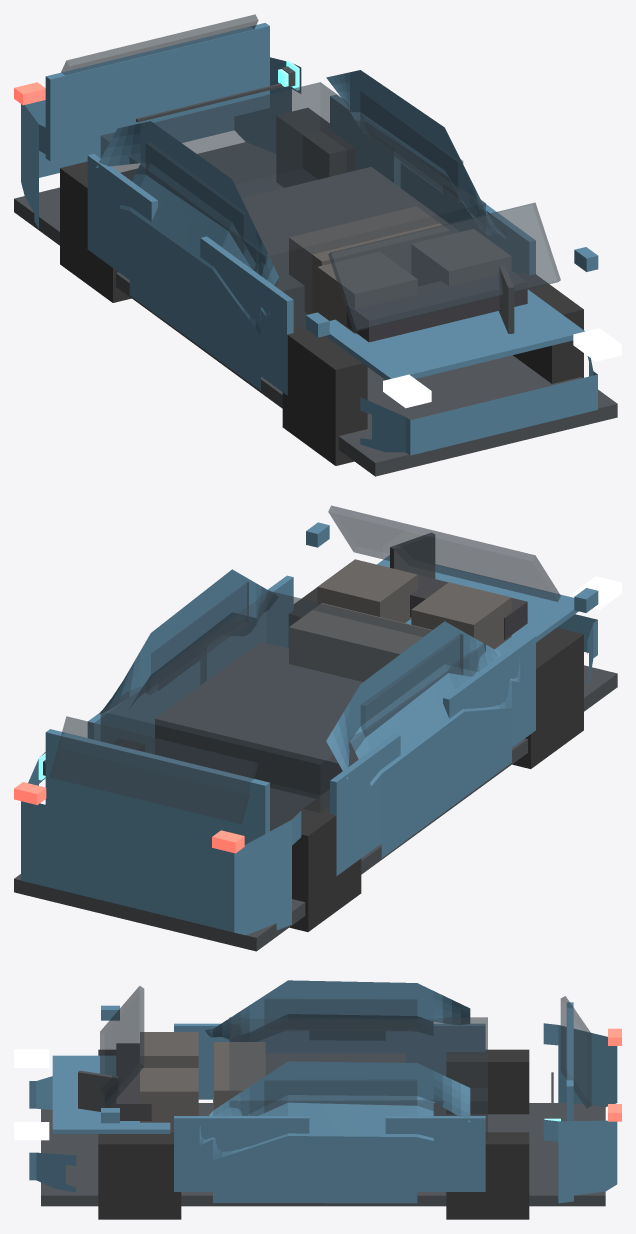
The model's file is sport_sedan_lod.glb.
3 views of the same model, one above another, from view 1: azimuth 30°, elevation 25°; view 2: azimuth 150°, elevation 25°; view 3: azimuth 270°, elevation 25° (orthographic). The views are drawn at different scales.
Parts seen in each view (by area): view 1: body_mesh, cab_mesh, liftgate_mesh, windshield, trim_mesh, frunk_mesh, wheel_well_mesh, tire_fr, seat_rear, dash, door_fr_mesh, door_rr_mesh (+14 smaller); view 2: body_mesh, cab_mesh, wheel_well_mesh, liftgate_mesh, rear_glass, windshield, trim_mesh, seat_rear, tire_fr, tire_rr, door_rr_mesh, door_fr_mesh (+10 smaller); view 3: body_mesh, cab_mesh, trim_mesh, tire_fl, door_rl_mesh, door_fl_mesh, tire_rl, window_fixed_r, tire_rr, frunk_mesh, window_fixed_l, windshield (+12 smaller).
Boxes of the visible parts, <box> form: body_mesh: <box>21,57,597,455</box>; cab_mesh: <box>100,82,485,328</box>; liftgate_mesh: <box>45,23,269,161</box>; windshield: <box>328,202,560,331</box>; trim_mesh: <box>14,142,617,476</box>; frunk_mesh: <box>326,289,584,379</box>; wheel_well_mesh: <box>241,167,459,327</box>; tire_fr: <box>282,325,367,465</box>; seat_rear: <box>289,206,449,314</box>; dash: <box>346,271,527,342</box>; door_fr_mesh: <box>200,236,293,394</box>; door_rr_mesh: <box>87,154,157,279</box>; body_mesh: <box>21,569,597,935</box>; cab_mesh: <box>100,591,485,830</box>; wheel_well_mesh: <box>155,641,362,798</box>; liftgate_mesh: <box>45,729,269,845</box>; rear_glass: <box>50,716,258,824</box>; windshield: <box>328,505,560,601</box>; trim_mesh: <box>14,665,617,951</box>; seat_rear: <box>289,603,432,681</box>; tire_fr: <box>512,627,583,768</box>; tire_rr: <box>278,789,361,931</box>; door_rr_mesh: <box>330,734,400,876</box>; door_fr_mesh: <box>443,634,535,747</box>; body_mesh: <box>29,980,617,1203</box>; cab_mesh: <box>229,1017,487,1138</box>; trim_mesh: <box>41,1103,605,1206</box>; tire_fl: <box>98,1132,181,1219</box>; door_rl_mesh: <box>385,1116,485,1191</box>; door_fl_mesh: <box>174,1116,309,1191</box>; tire_rl: <box>446,1132,529,1219</box>; window_fixed_r: <box>264,999,416,1030</box>; tire_rr: <box>446,1049,529,1114</box>; frunk_mesh: <box>52,1055,170,1133</box>; window_fixed_l: <box>264,1079,416,1112</box>; windshield: <box>100,986,144,1109</box>.
Size of the model in its own units: 2.15 by 1.72 by 5.17.
